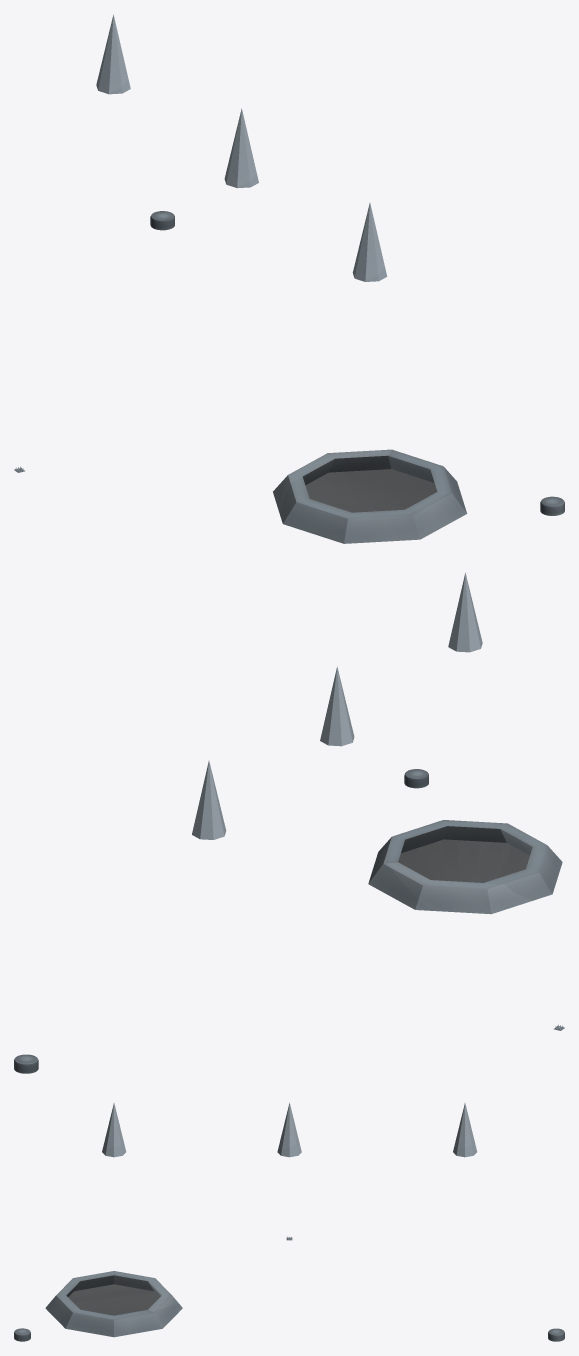
File: simple_spike_trap.glb
The picture shows the model from 3 angles, top to bottom: view 1: azimuth 30°, elevation 25°; view 2: azimuth 150°, elevation 25°; view 3: azimuth 270°, elevation 25°; orthographic projection. The views are drawn at different scales.
Visible parts, largest first — view 1: Spikepad1_Spike_Stuff_Texture_0.004, Spike2_Spike_Stuff_Texture_0.001, Spike3_Spike_Stuff_Texture_0.001, Spike7_Spike_Stuff_Texture_0.001; view 2: Spikepad1_Spike_Stuff_Texture_0.004, Spike2_Spike_Stuff_Texture_0.001, Spike3_Spike_Stuff_Texture_0.001, Spike7_Spike_Stuff_Texture_0.001; view 3: Spikepad1_Spike_Stuff_Texture_0.004, Spike7_Spike_Stuff_Texture_0.001, Spike3_Spike_Stuff_Texture_0.001, Spike2_Spike_Stuff_Texture_0.001.
Boxes of the visible parts, x1=… form: Spikepad1_Spike_Stuff_Texture_0.004: x1=273, y1=449, x2=467, y2=543; Spike2_Spike_Stuff_Texture_0.001: x1=96, y1=14, x2=130, y2=94; Spike3_Spike_Stuff_Texture_0.001: x1=352, y1=202, x2=387, y2=281; Spike7_Spike_Stuff_Texture_0.001: x1=224, y1=108, x2=258, y2=188; Spikepad1_Spike_Stuff_Texture_0.004: x1=368, y1=820, x2=562, y2=914; Spike2_Spike_Stuff_Texture_0.001: x1=192, y1=760, x2=226, y2=839; Spike3_Spike_Stuff_Texture_0.001: x1=448, y1=572, x2=482, y2=652; Spike7_Spike_Stuff_Texture_0.001: x1=320, y1=666, x2=354, y2=746; Spikepad1_Spike_Stuff_Texture_0.004: x1=45, y1=1271, x2=182, y2=1337; Spike7_Spike_Stuff_Texture_0.001: x1=277, y1=1103, x2=301, y2=1157; Spike3_Spike_Stuff_Texture_0.001: x1=102, y1=1102, x2=126, y2=1157; Spike2_Spike_Stuff_Texture_0.001: x1=453, y1=1102, x2=477, y2=1157.
Bounding box in the file's own units: 198 × 166 × 392.
2 materials, 2 textured.
